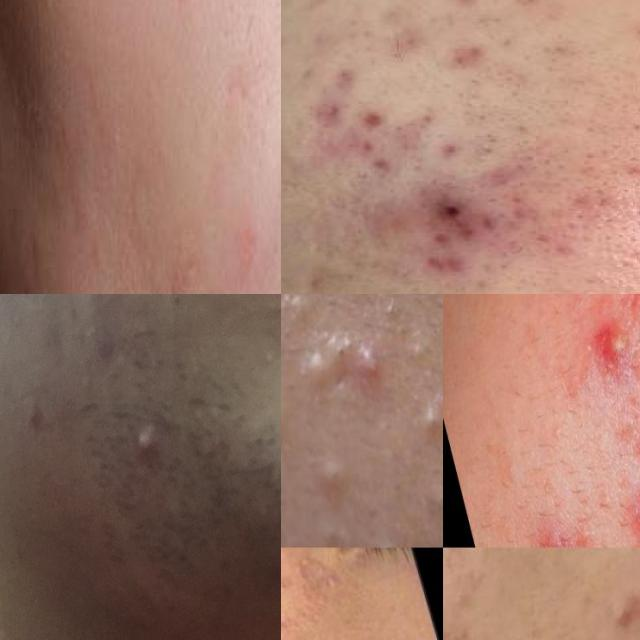acne_scars: (354, 93, 405, 179), (614, 348, 640, 470), (441, 40, 504, 76), (308, 97, 354, 134), (433, 0, 501, 20)
comedone: (290, 431, 371, 525), (408, 452, 443, 543), (281, 375, 306, 470), (281, 294, 327, 343), (301, 336, 339, 393), (443, 570, 483, 620), (416, 384, 443, 455), (364, 530, 416, 548)
flat_wart: (288, 547, 341, 640)
papule: (516, 506, 608, 548), (594, 578, 640, 640)
pustule: (585, 307, 640, 384), (352, 342, 396, 394)
